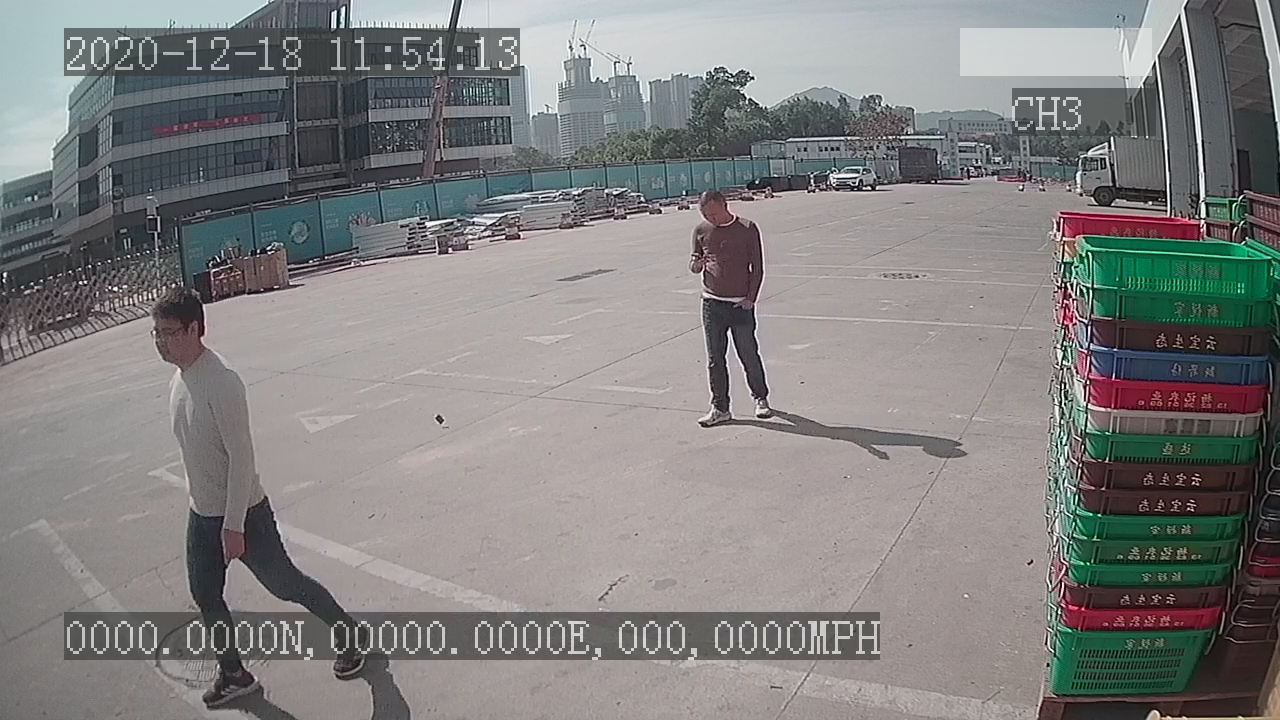person: (679, 181, 781, 433)
